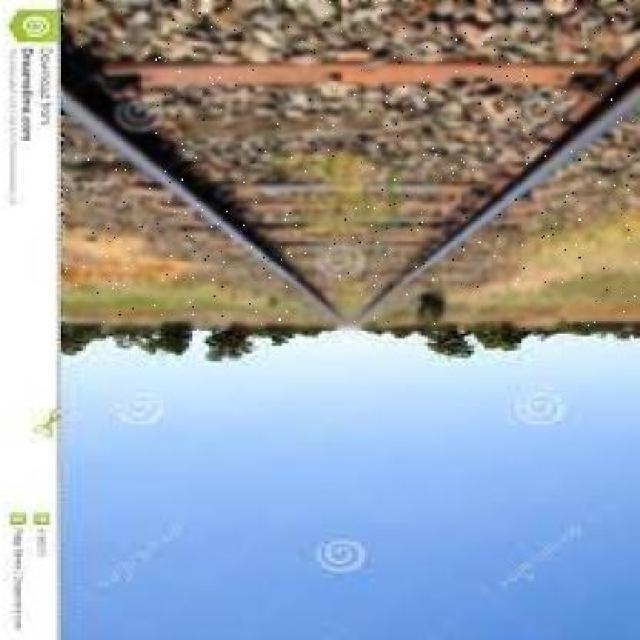rail: (66, 3, 640, 331)
